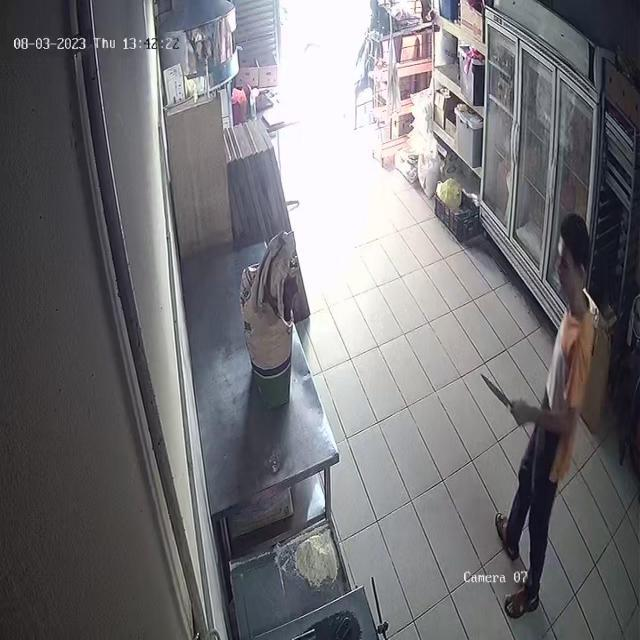Knife: (472, 361, 524, 420)
